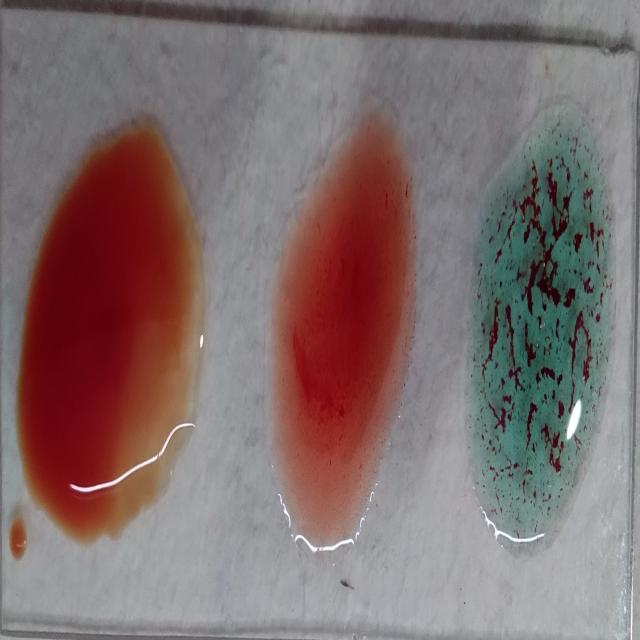A: (470, 111, 606, 547)
